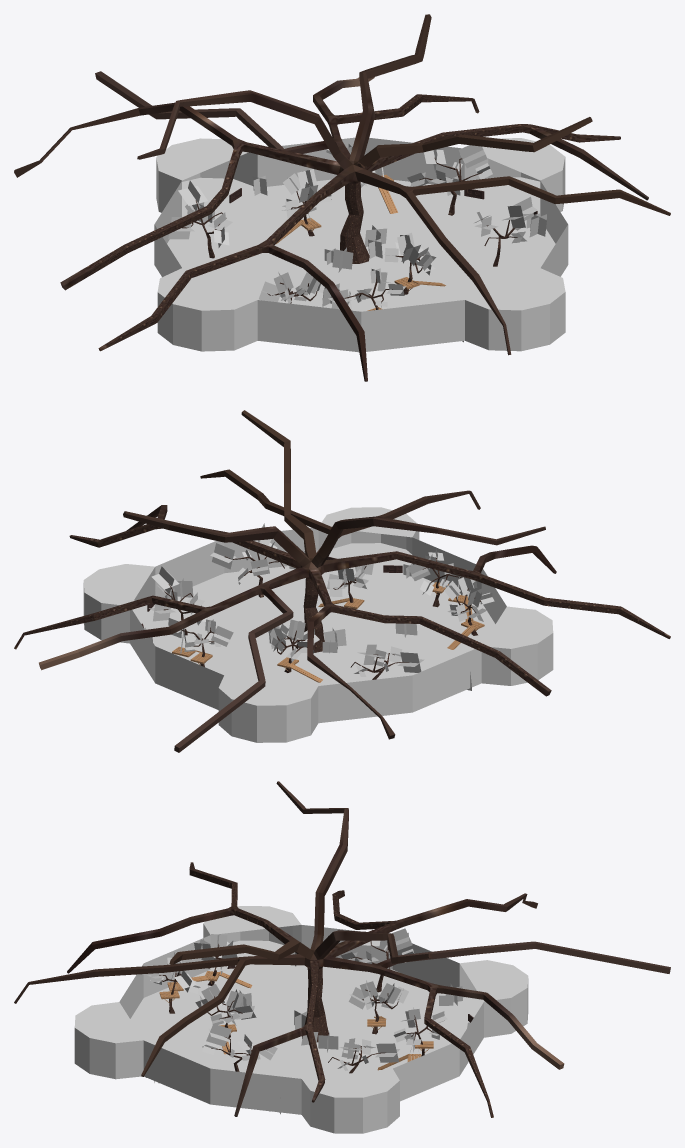
File: Assets_for_BloodySugar_V3.fbx
3 views of the same model, one above another, from view 1: azimuth 30°, elevation 25°; view 2: azimuth 150°, elevation 25°; view 3: azimuth 270°, elevation 25° (orthographic). The views are drawn at different scales.
Visible parts, largest first — view 1: Arena.001, MegaTree, Arena; view 2: Arena.001, MegaTree, Arena; view 3: Arena.001, MegaTree, Arena.
Boxes of the visible parts, x1,y1,x2,y2 form: Arena.001: [154, 137, 568, 352]; MegaTree: [14, 14, 670, 381]; Arena: [167, 177, 555, 311]; Arena.001: [83, 507, 553, 742]; MegaTree: [14, 410, 670, 752]; Arena: [132, 543, 495, 685]; Arena.001: [74, 906, 528, 1133]; MegaTree: [14, 781, 670, 1117]; Arena: [130, 940, 483, 1078].
Size of the model in its own units: 12870 by 3912 by 14074.
